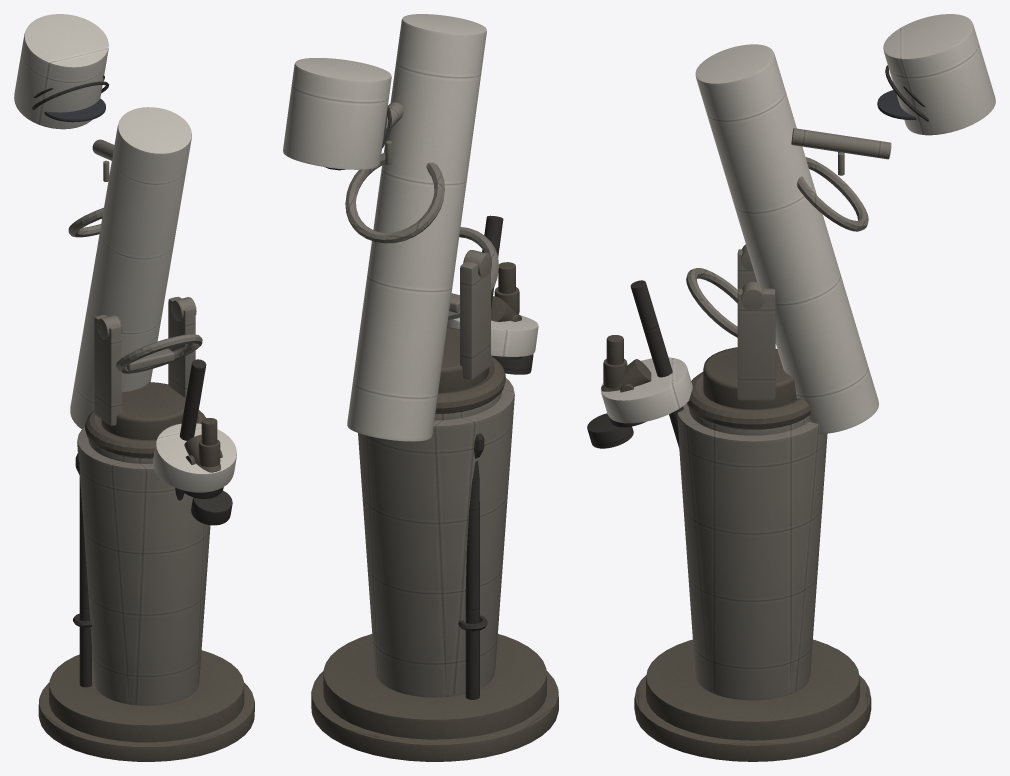
The model's file is telescope.glb.
The picture shows the model from 3 angles, left to right: view 1: azimuth 30°, elevation 25°; view 2: azimuth 150°, elevation 25°; view 3: azimuth 270°, elevation 25°; orthographic projection. The views are drawn at different scales.
Visible parts, largest first — view 1: tube, pier, footing, yoke_arms, yoke_race, counterweight, tube_rings, feed, focuser, aperture, finder, baffles; view 2: tube, pier, footing, yoke_arms, feed, tube_rings, yoke_race, focuser, counterweight; view 3: tube, pier, footing, yoke_race, yoke_arms, tube_rings, counterweight, finder, focuser.
Part boxes in pixels (bbox=[...]): tube: bbox=[14, 14, 236, 492]; pier: bbox=[77, 427, 210, 705]; footing: bbox=[38, 650, 254, 761]; yoke_arms: bbox=[94, 296, 196, 425]; yoke_race: bbox=[85, 382, 205, 458]; counterweight: bbox=[175, 359, 232, 525]; tube_rings: bbox=[68, 207, 202, 373]; feed: bbox=[73, 453, 91, 687]; focuser: bbox=[184, 418, 222, 472]; aperture: bbox=[44, 98, 105, 122]; finder: bbox=[92, 139, 114, 181]; baffles: bbox=[32, 75, 109, 109]; tube: bbox=[283, 14, 538, 441]; pier: bbox=[358, 378, 514, 697]; footing: bbox=[311, 634, 558, 761]; yoke_arms: bbox=[460, 250, 491, 379]; feed: bbox=[458, 433, 487, 699]; tube_rings: bbox=[345, 152, 498, 320]; yoke_race: bbox=[435, 327, 505, 414]; focuser: bbox=[491, 262, 521, 321]; counterweight: bbox=[482, 215, 533, 374]; tube: bbox=[600, 14, 995, 433]; pier: bbox=[677, 403, 827, 700]; footing: bbox=[634, 639, 871, 761]; yoke_race: bbox=[687, 347, 810, 429]; yoke_arms: bbox=[737, 244, 775, 400]; tube_rings: bbox=[686, 157, 868, 337]; counterweight: bbox=[587, 280, 683, 448]; finder: bbox=[791, 128, 891, 175]; focuser: bbox=[601, 335, 651, 392].
Bounding box in the file's own units: 1.24 × 3.97 × 2.14.
5 materials, 4 textured.
